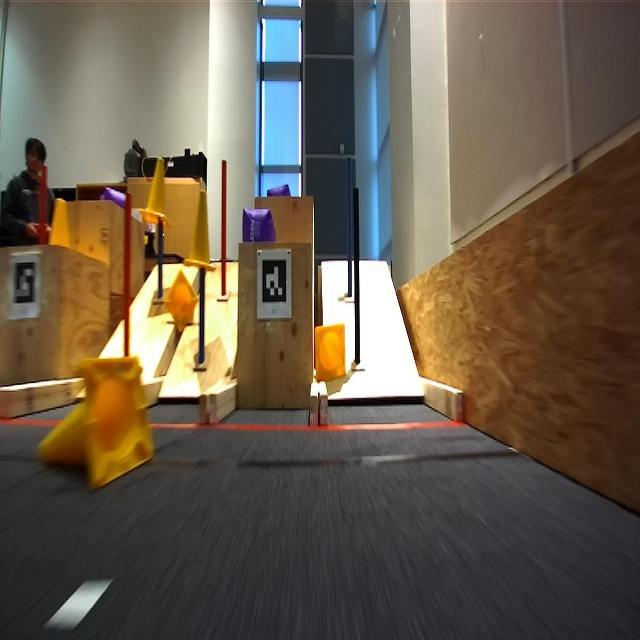frc_cone: (39, 354, 154, 490), (184, 189, 218, 273), (312, 320, 348, 388), (138, 154, 170, 226), (164, 270, 198, 332), (47, 198, 73, 246)
frc_cube: (240, 202, 278, 246), (103, 186, 129, 207), (266, 179, 294, 198)
